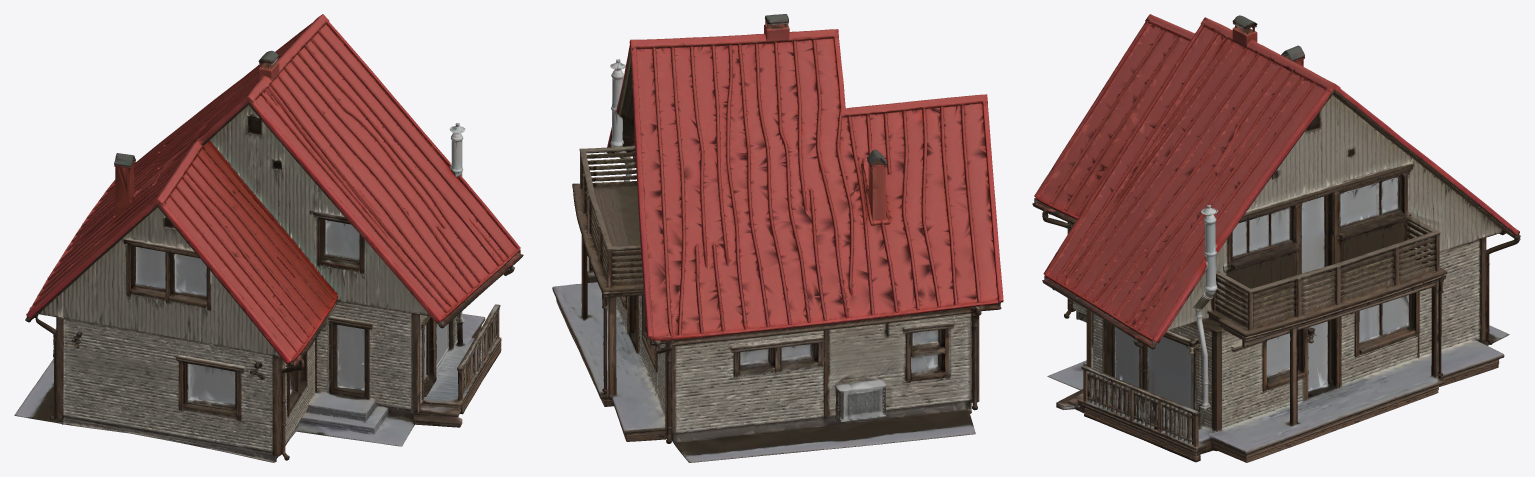
The model's file is maja.glb.
The picture shows the model from 3 angles, left to right: view 1: azimuth 30°, elevation 25°; view 2: azimuth 150°, elevation 25°; view 3: azimuth 270°, elevation 25°; orthographic projection. The views are drawn at different scales.
Visible parts, largest first — view 1: tripo_node_1708f364-d15f-4d18-a2aa-e0c82a194673; view 2: tripo_node_1708f364-d15f-4d18-a2aa-e0c82a194673; view 3: tripo_node_1708f364-d15f-4d18-a2aa-e0c82a194673.
Boxes of the visible parts, x1,y1,x2,y2 form: tripo_node_1708f364-d15f-4d18-a2aa-e0c82a194673: (14, 14, 523, 462); tripo_node_1708f364-d15f-4d18-a2aa-e0c82a194673: (552, 14, 1003, 462); tripo_node_1708f364-d15f-4d18-a2aa-e0c82a194673: (1032, 14, 1520, 462).
Bounding box in the file's own units: 0.979 × 0.693 × 0.9009.
Materials: 1 (1 with a texture image).
